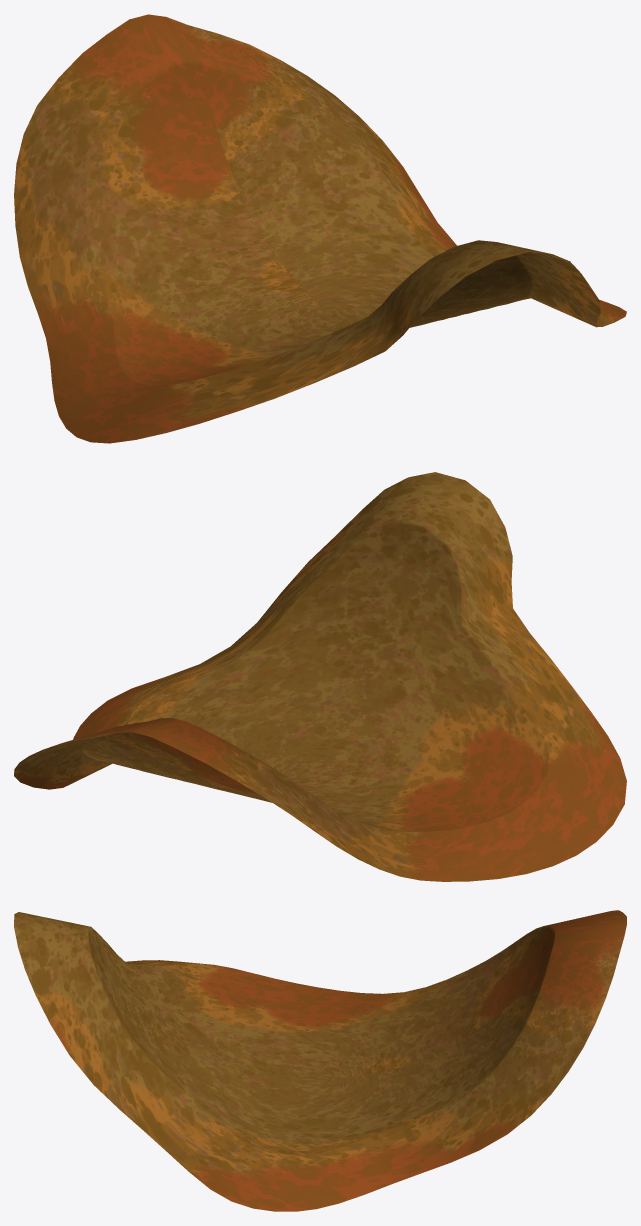
Rendered from Large Rust Puddle.fbx.
The picture shows the model from 3 angles, top to bottom: view 1: azimuth 30°, elevation 25°; view 2: azimuth 150°, elevation 25°; view 3: azimuth 270°, elevation 25°; orthographic projection. The views are drawn at different scales.
Parts seen in each view (by area): view 1: Large; view 2: Large; view 3: Large.
Boxes of the visible parts, x1,y1,x2,y2 form: Large: [14, 14, 626, 443]; Large: [14, 472, 626, 881]; Large: [14, 910, 626, 1211].
Size of the model in its own units: 50.55 by 19.51 by 56.74.
1 material, 1 textured.
